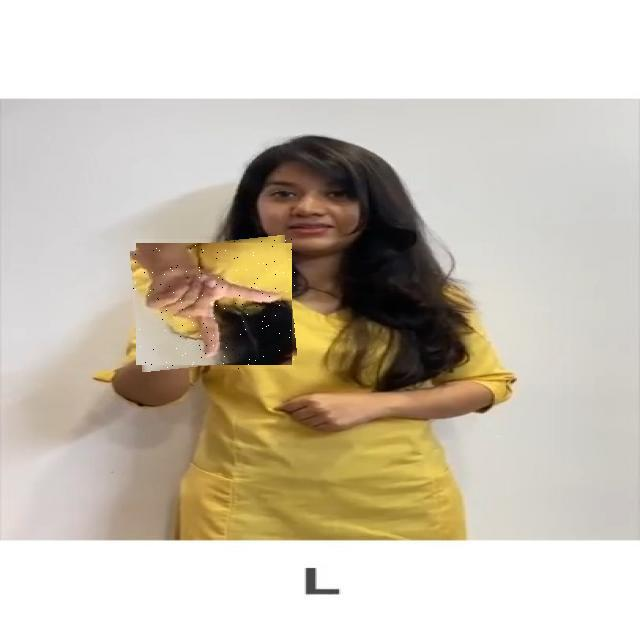L: (133, 239, 295, 369)
